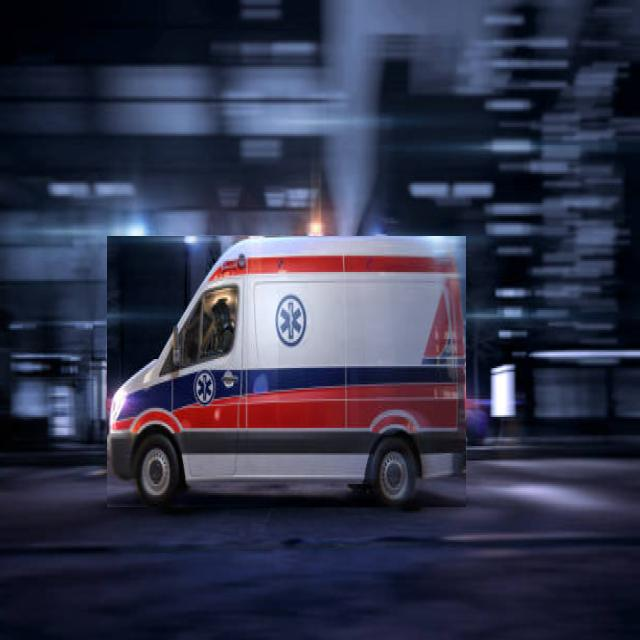emergency: (107, 236, 465, 507)
